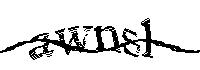a: (27, 30, 53, 62)
l: (141, 16, 155, 60)
n: (94, 24, 121, 54)
s: (121, 27, 143, 58)
w: (55, 22, 91, 55)
